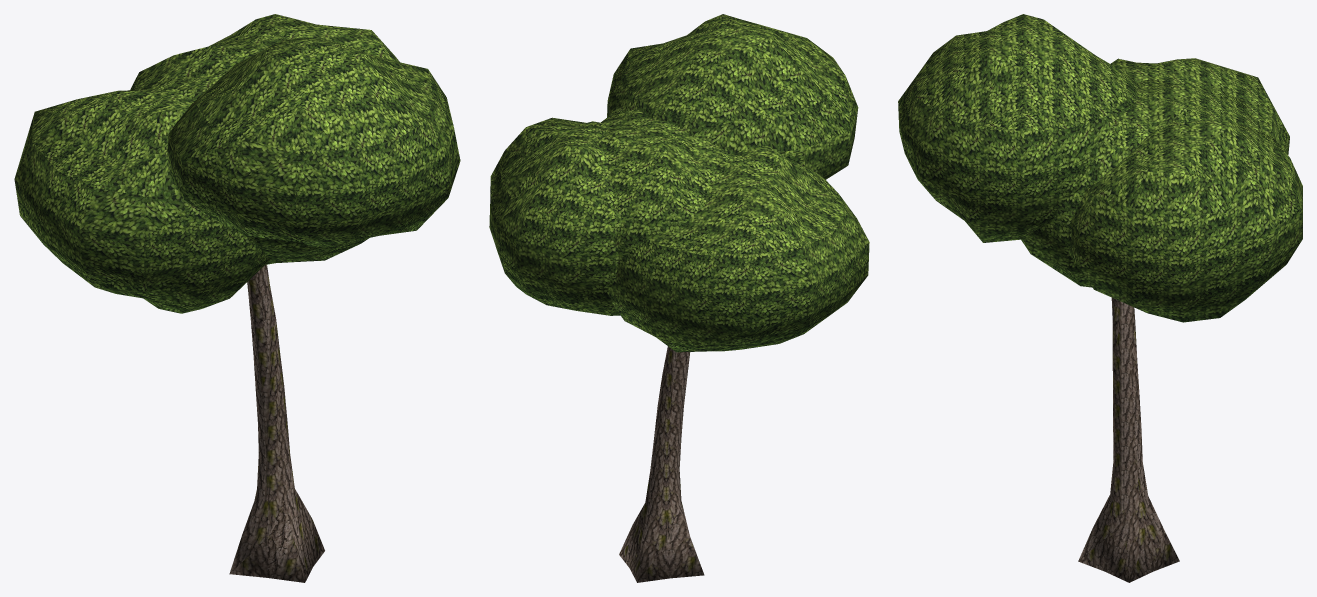
File: tree_1.glb
The picture shows the model from 3 angles, left to right: view 1: azimuth 30°, elevation 25°; view 2: azimuth 150°, elevation 25°; view 3: azimuth 270°, elevation 25°; orthographic projection. The views are drawn at different scales.
Visible parts, largest first — view 1: Tree; view 2: Tree; view 3: Tree.
Boxes of the visible parts, <box> form: Tree: <box>14,14,460,582</box>; Tree: <box>489,14,869,582</box>; Tree: <box>898,14,1302,582</box>.
Bounding box in the file's own units: 7.23 × 10.18 × 7.16.
Materials: 2 (2 with a texture image).
